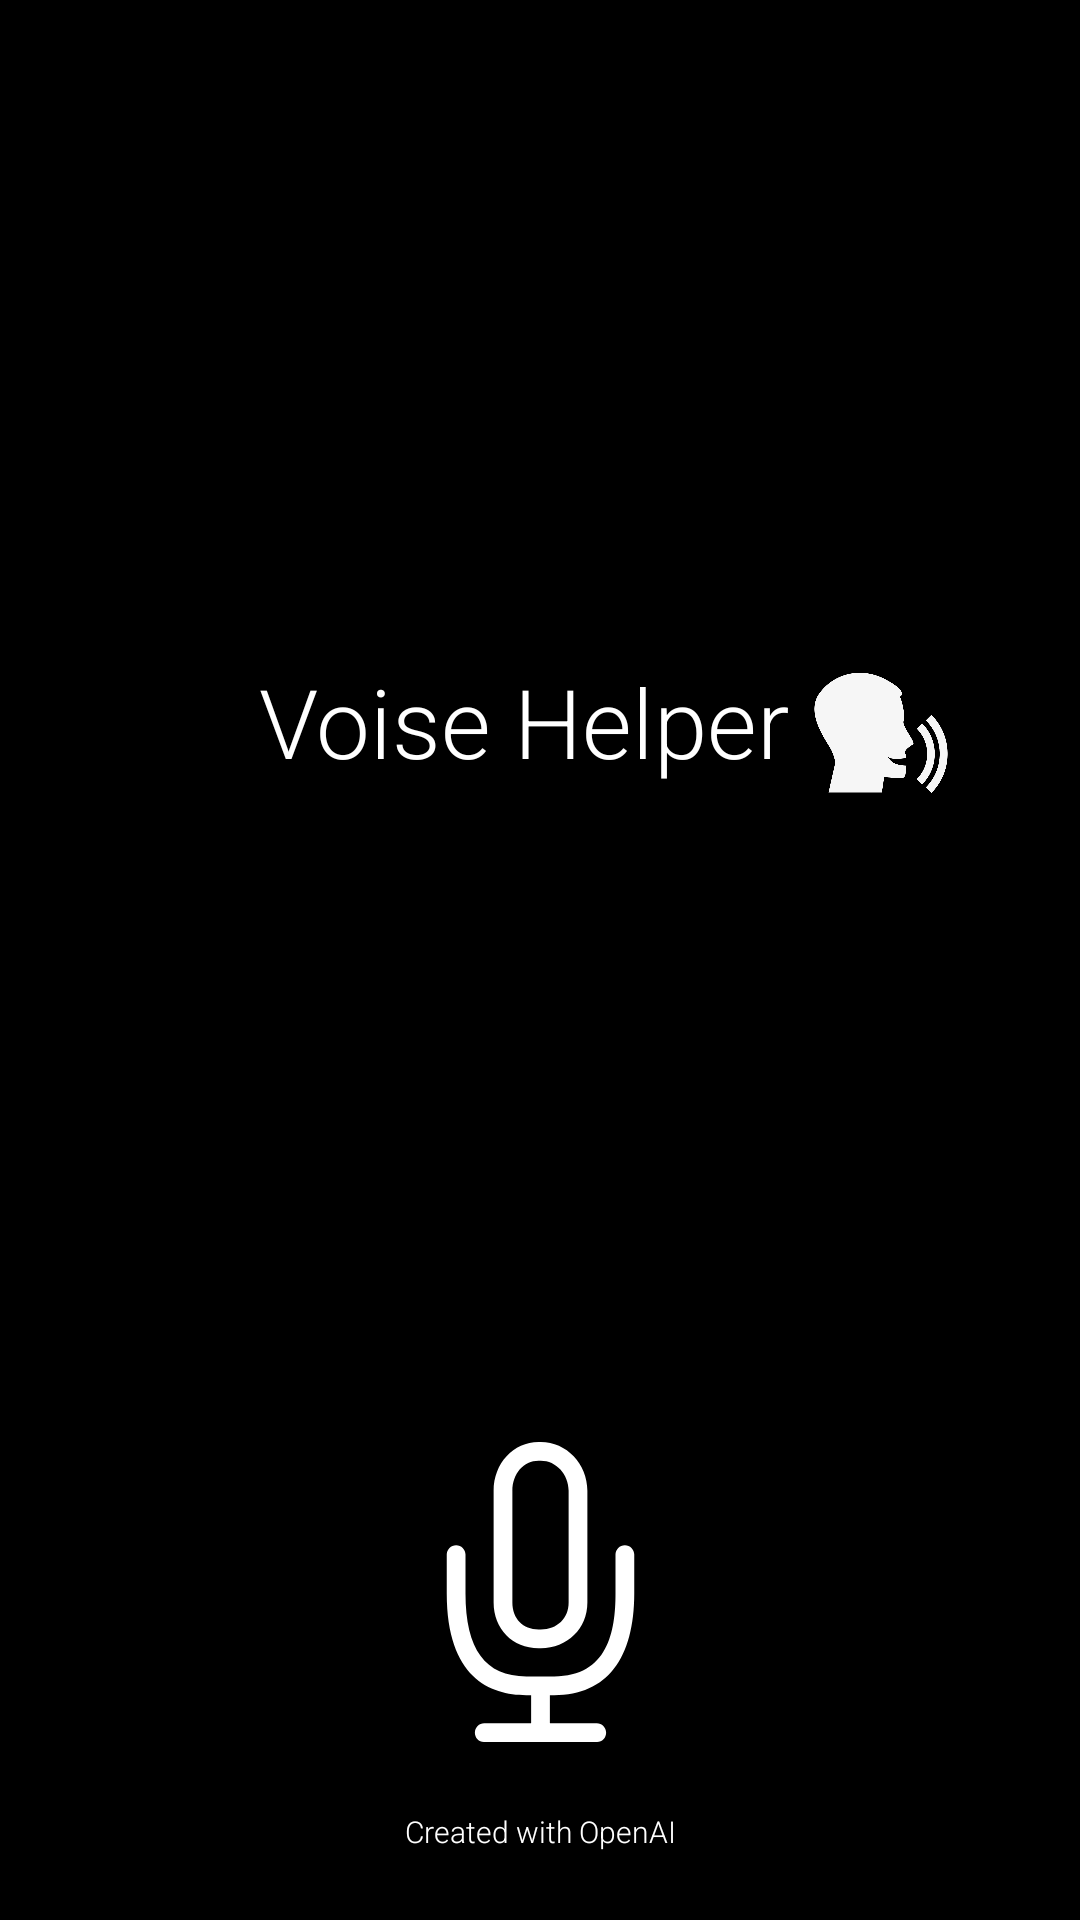

Screen size 1080 x 1920. Icon name, then its center in pixels as (x,y):
mic: (540,1592)
speaker: (881,733)
